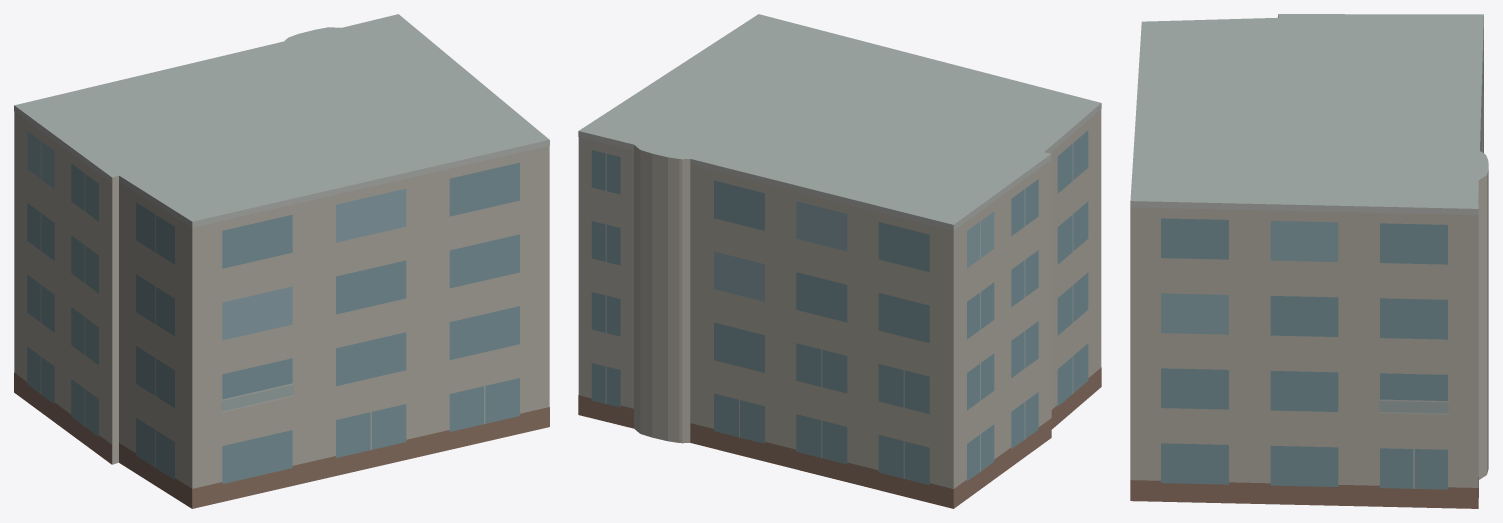
File: survey-upis-32654897.glb
The picture shows the model from 3 angles, left to right: view 1: azimuth 30°, elevation 25°; view 2: azimuth 150°, elevation 25°; view 3: azimuth 270°, elevation 25°; orthographic projection. The views are drawn at different scales.
Visible parts, largest first — view 1: survey-upis-32654897.tmp; view 2: survey-upis-32654897.tmp; view 3: survey-upis-32654897.tmp.
Part boxes in pixels (left/top/right/bottom): survey-upis-32654897.tmp: left=14, top=14, right=549, bottom=508; survey-upis-32654897.tmp: left=578, top=14, right=1101, bottom=508; survey-upis-32654897.tmp: left=1130, top=14, right=1488, bottom=508.
Bounding box in the file's own units: 16.32 × 11.7 × 12.67.
